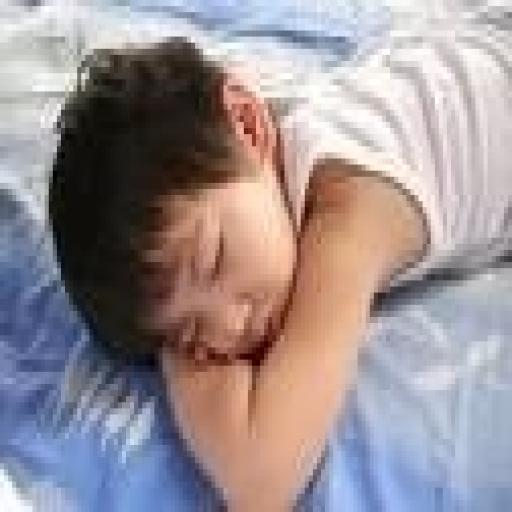sleeping: (41, 12, 508, 506)
